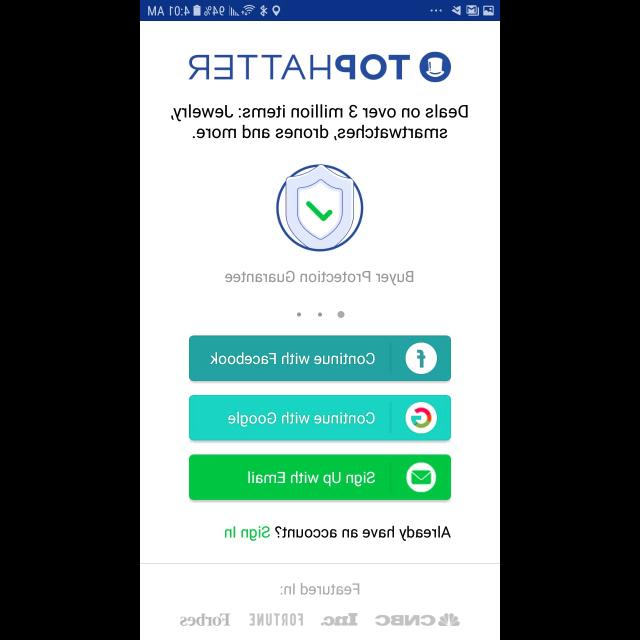image: (276, 164, 364, 252), (419, 52, 451, 82), (438, 613, 460, 627)
pageindicator: (296, 310, 344, 318)
text: (170, 104, 468, 140), (188, 54, 410, 80), (225, 525, 451, 541), (224, 270, 413, 286), (280, 582, 360, 596), (374, 614, 436, 626), (180, 613, 230, 627), (249, 614, 303, 626), (320, 613, 358, 627)
textbutton: (189, 335, 451, 381), (189, 395, 451, 441), (189, 455, 451, 501)
uppertaskbar: (140, 1, 500, 22)
